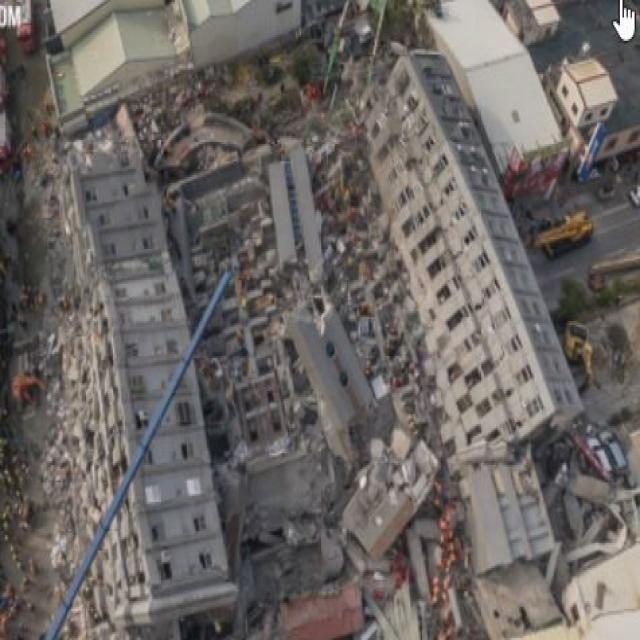collapsed_building: (62, 51, 526, 597)
